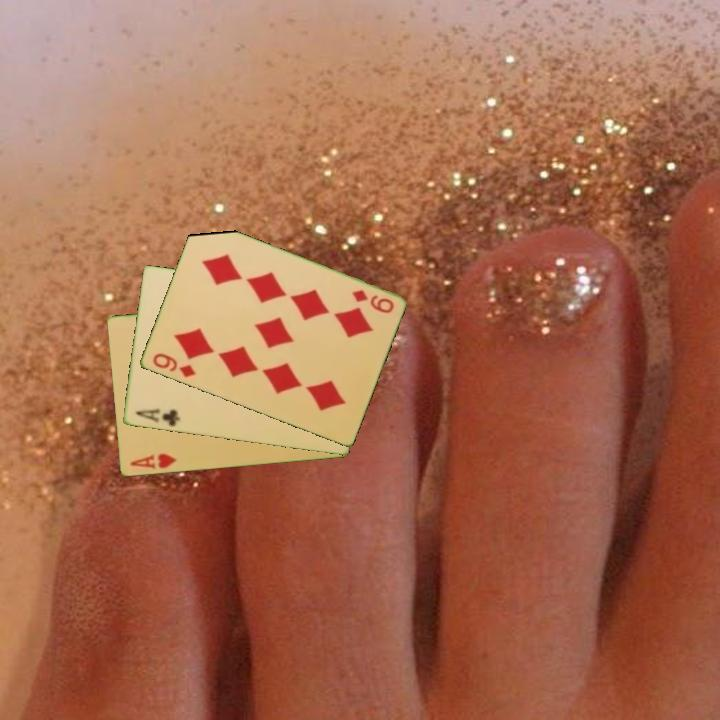9d: (149, 350, 198, 380), (348, 286, 397, 316)
Ac: (132, 405, 182, 430)
Ah: (127, 450, 179, 472)
